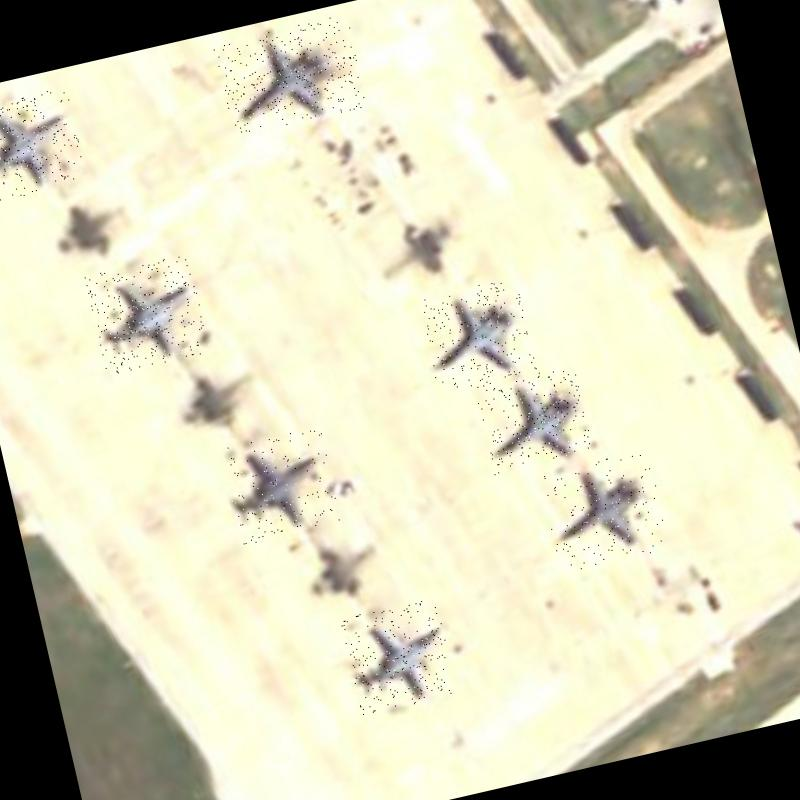A10: (212, 13, 368, 138), (537, 449, 670, 574), (84, 252, 210, 375), (218, 426, 342, 546), (415, 276, 538, 395), (340, 596, 458, 715), (474, 364, 594, 475), (0, 85, 87, 205)
